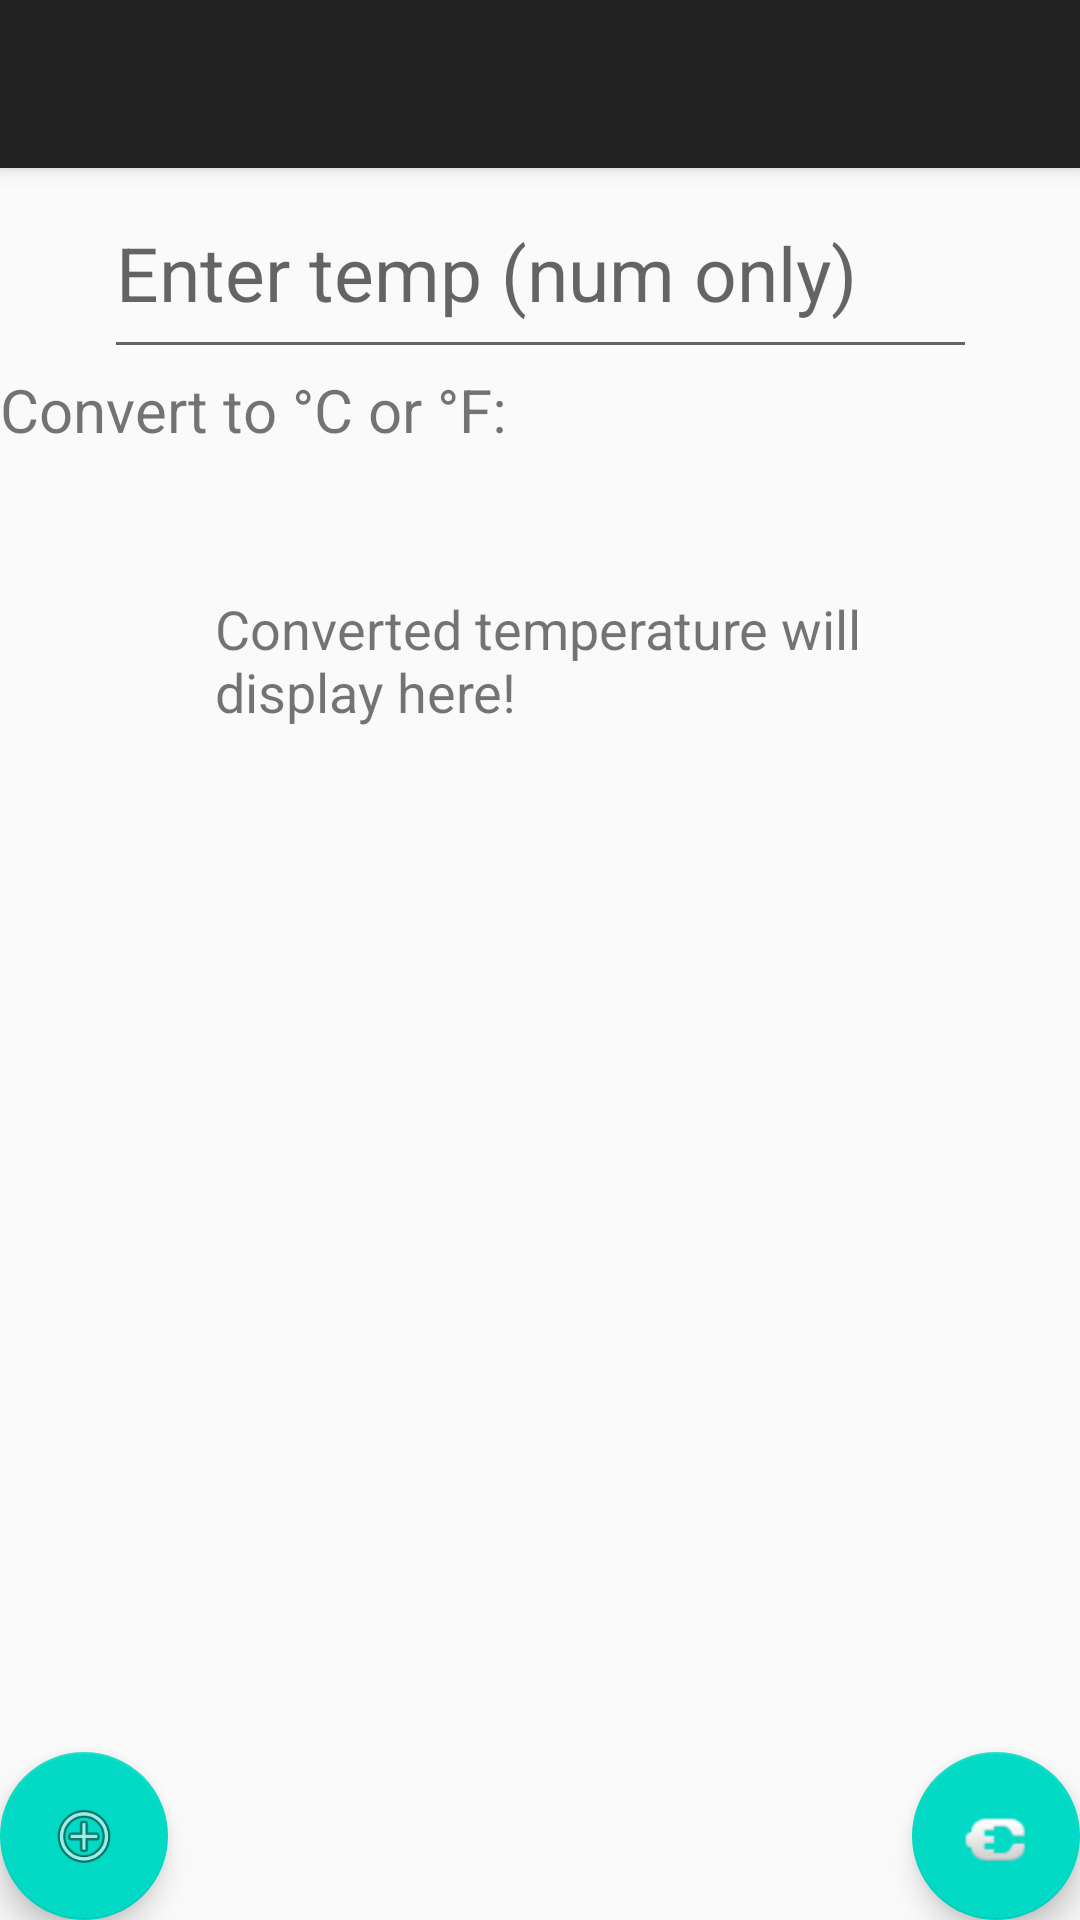

Named icons in this screenshot (1080px x 1920px) and their centers, [x,y]:
add: [84,1836]
lock idle charging: [996,1836]
